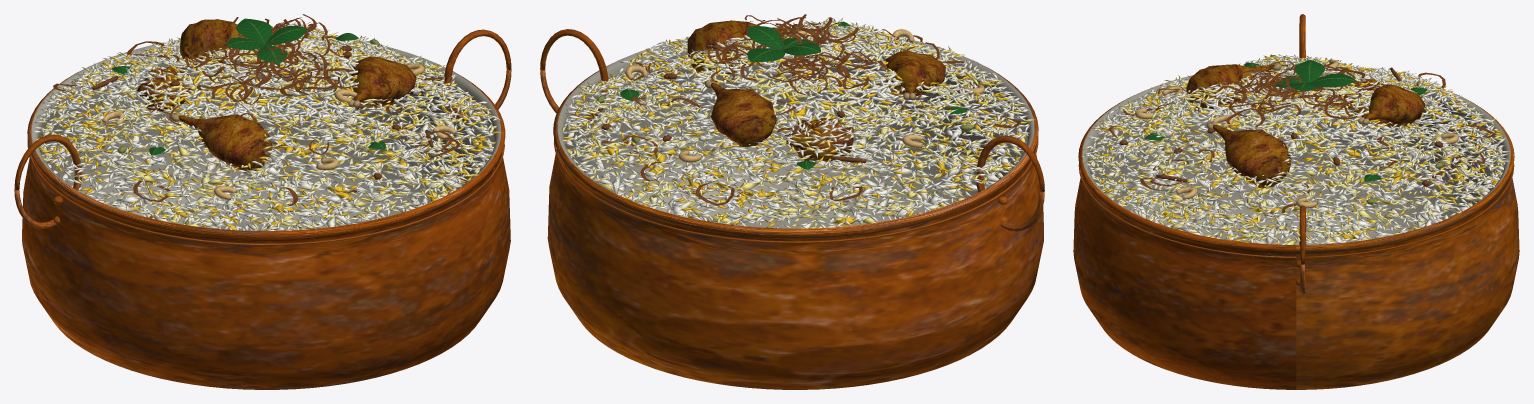
Rendered from Biryani_Refined-Bq2BVNL5.glb.
3 views of the same model, side by side, from view 1: azimuth 30°, elevation 25°; view 2: azimuth 150°, elevation 25°; view 3: azimuth 270°, elevation 25° (orthographic). The views are drawn at different scales.
Parts seen in each view (by area): view 1: Hammered_copper_handi, Basmati_grains, Chicken_on_the_bone, Caramelized_onion_ribbons, Mint_sprig_and_coriander, Cashews_16, Whole_spices_and_raisins; view 2: Hammered_copper_handi, Basmati_grains, Chicken_on_the_bone, Caramelized_onion_ribbons, Mint_sprig_and_coriander, Cashews_16, Whole_spices_and_raisins; view 3: Hammered_copper_handi, Basmati_grains, Chicken_on_the_bone, Caramelized_onion_ribbons, Mint_sprig_and_coriander, Cashews_16, Whole_spices_and_raisins.
Boxes of the visible parts, <box> form: Hammered_copper_handi: <box>14,29,511,389</box>; Basmati_grains: <box>34,21,501,230</box>; Chicken_on_the_bone: <box>137,19,416,172</box>; Caramelized_onion_ribbons: <box>53,14,459,205</box>; Mint_sprig_and_coriander: <box>112,18,385,155</box>; Cashews_16: <box>102,63,456,199</box>; Whole_spices_and_raisins: <box>92,23,433,179</box>; Hammered_copper_handi: <box>540,27,1044,389</box>; Basmati_grains: <box>562,18,1035,228</box>; Chicken_on_the_bone: <box>687,20,945,161</box>; Caramelized_onion_ribbons: <box>601,14,1020,205</box>; Mint_sprig_and_coriander: <box>620,21,967,169</box>; Cashews_16: <box>625,27,984,162</box>; Whole_spices_and_raisins: <box>597,24,973,162</box>; Hammered_copper_handi: <box>1073,14,1519,389</box>; Basmati_grains: <box>1082,54,1509,253</box>; Chicken_on_the_bone: <box>1186,62,1425,187</box>; Caramelized_onion_ribbons: <box>1108,61,1495,213</box>; Mint_sprig_and_coriander: <box>1145,60,1427,181</box>; Cashews_16: <box>1135,59,1459,208</box>; Whole_spices_and_raisins: <box>1119,54,1444,204</box>.
Bounding box in the file's own units: 3.04 × 1.6 × 2.6.
Materials: 2 (2 with a texture image).
